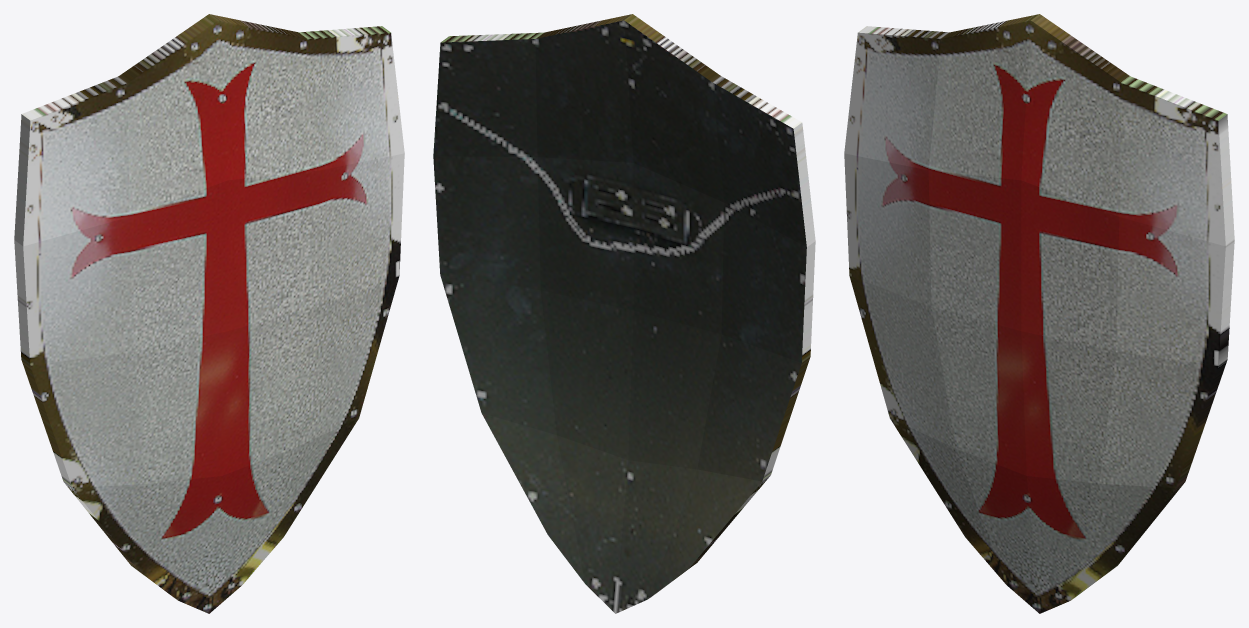
Rendered from Great Shield.fbx.
3 renders of one model, left to right at view 1: azimuth 30°, elevation 25°; view 2: azimuth 150°, elevation 25°; view 3: azimuth 330°, elevation 25°, orthographic. The views are drawn at different scales.
Visible parts, largest first — view 1: Great Shield; view 2: Great Shield; view 3: Great Shield.
Part boxes in pixels (x1,y1,x2,y2): Great Shield: [14, 14, 404, 613]; Great Shield: [433, 14, 815, 613]; Great Shield: [844, 14, 1234, 613].
Bounding box in the file's own units: 0.5098 × 0.766 × 0.0634.
